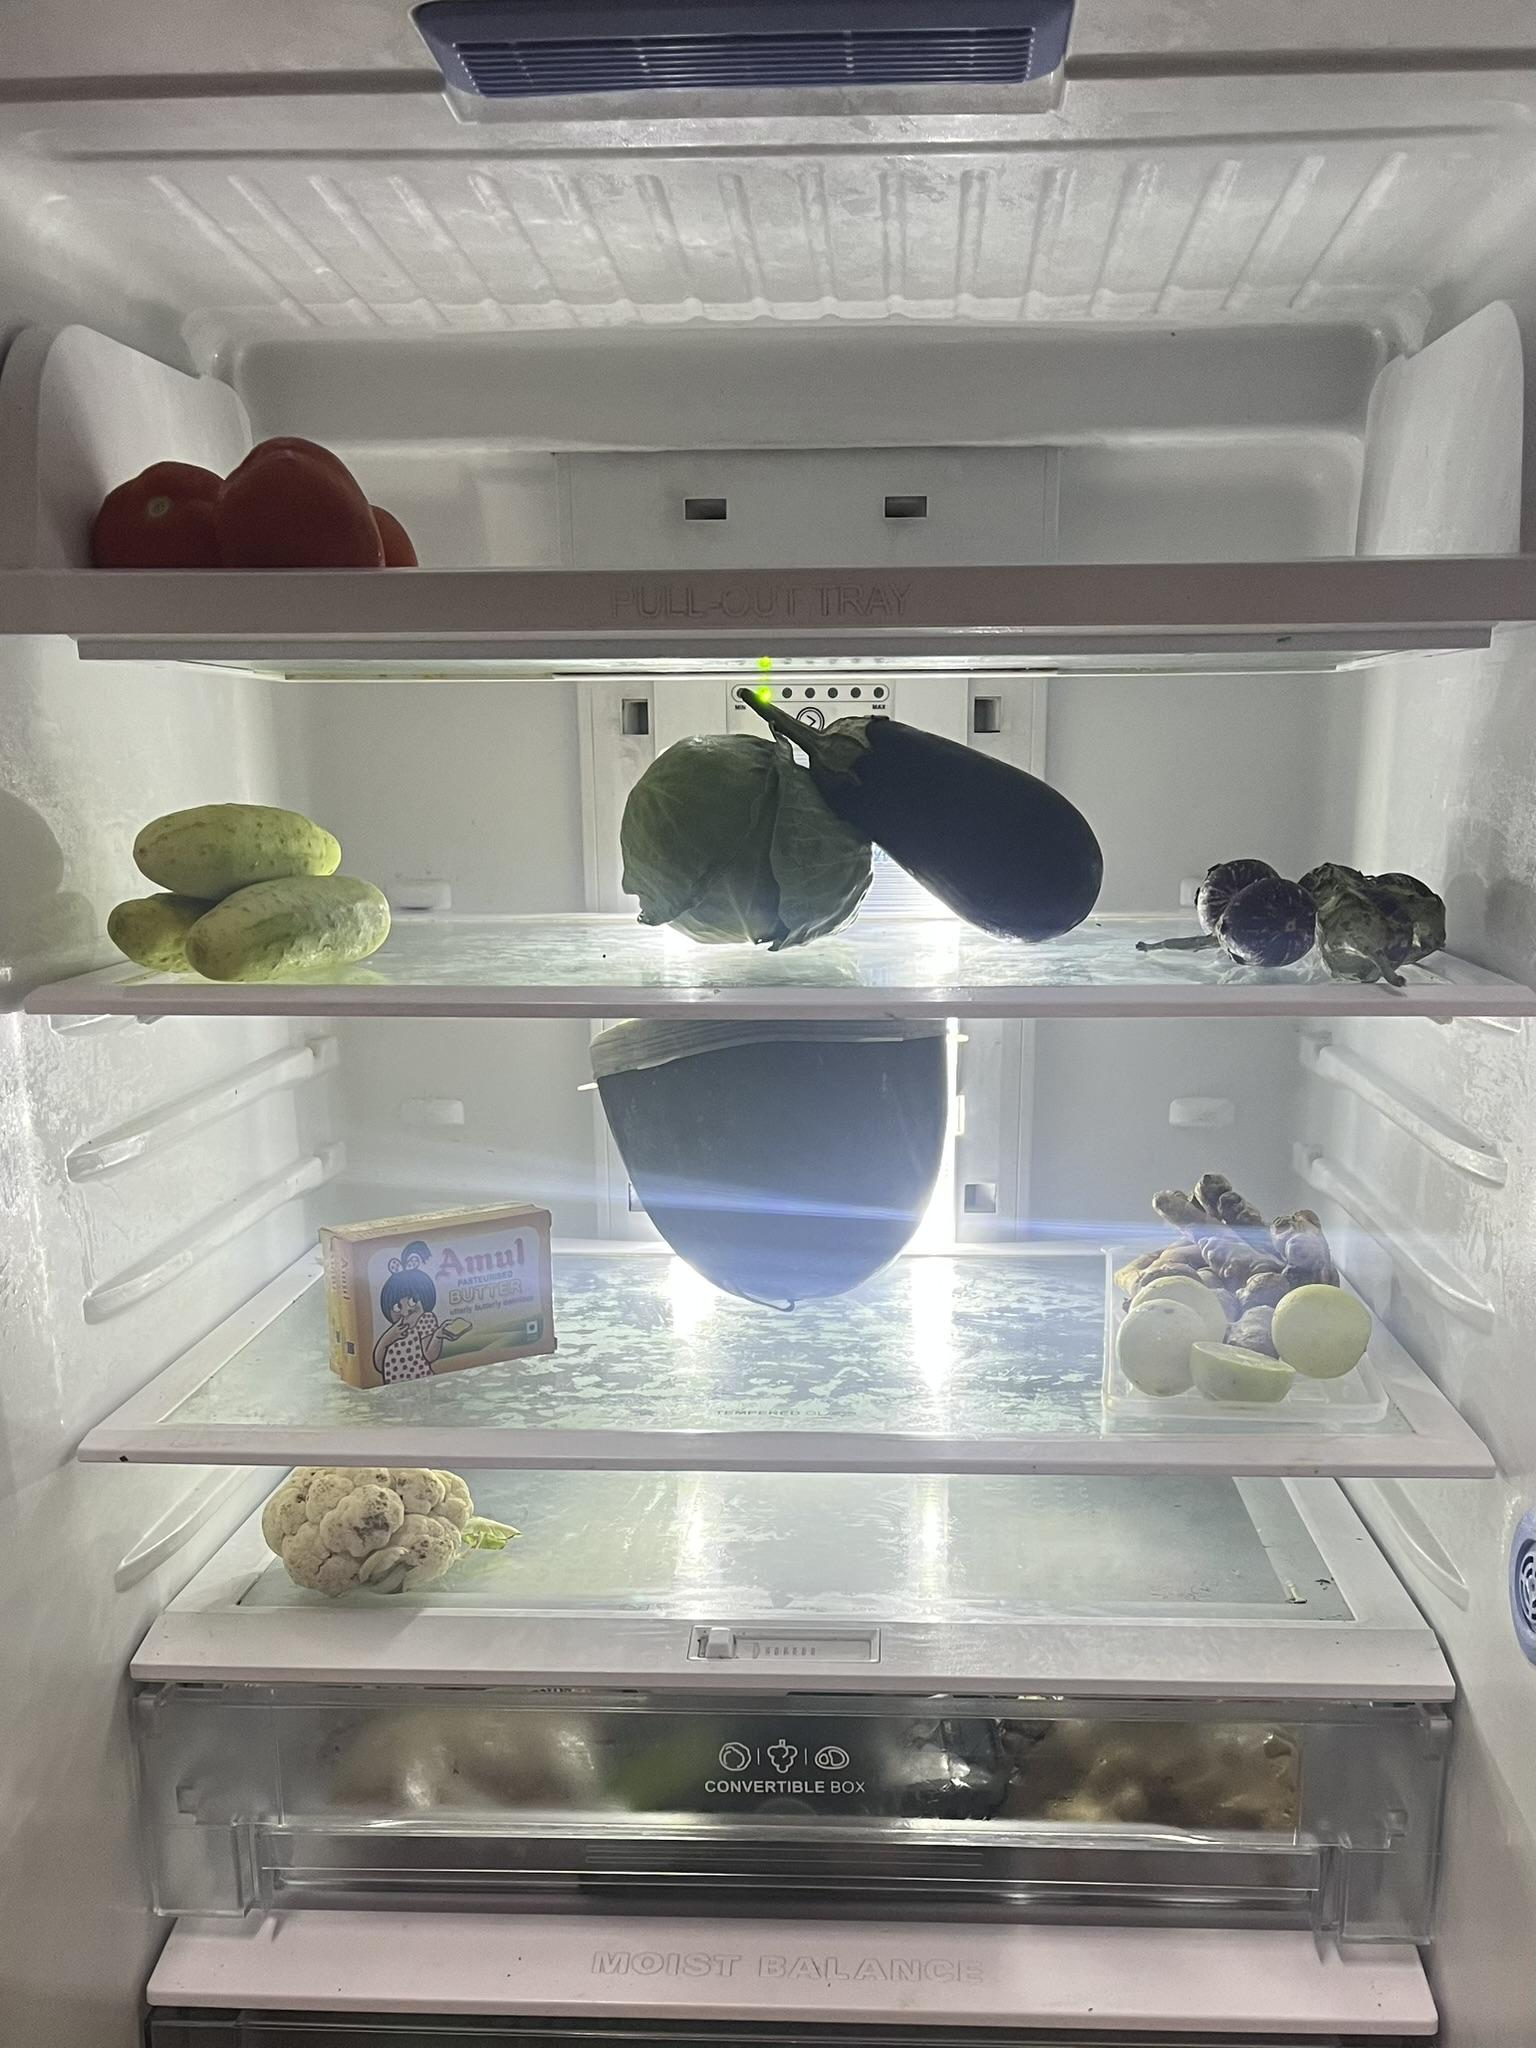bringal: (753, 684, 1110, 956), (1150, 853, 1467, 959)
butter: (319, 1203, 570, 1387)
cabbage: (607, 727, 879, 959)
cauliflower: (247, 1467, 500, 1600)
cucumber: (110, 797, 400, 977)
ginger: (1117, 1174, 1333, 1280)
lemon: (1117, 1287, 1376, 1427)
tomato: (77, 424, 431, 574)
watermelon: (587, 1016, 954, 1306)
